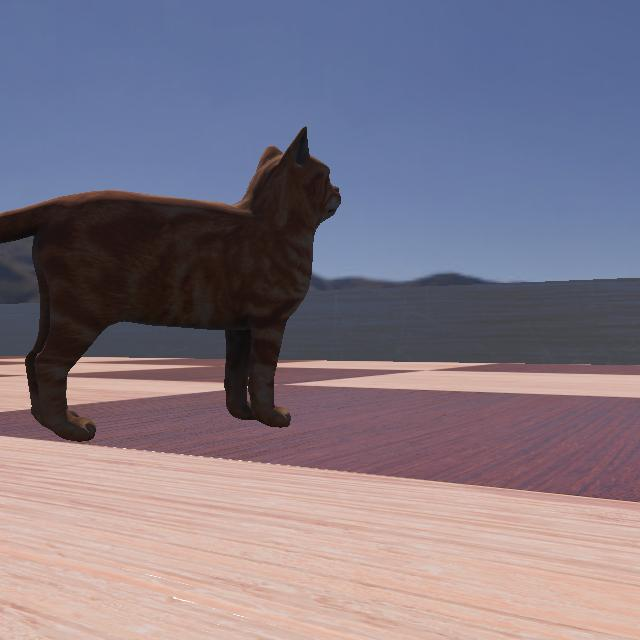cat: (0, 80, 358, 450)
